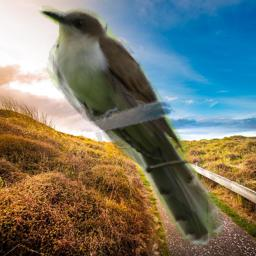Cuckoo: (38, 4, 224, 246)
